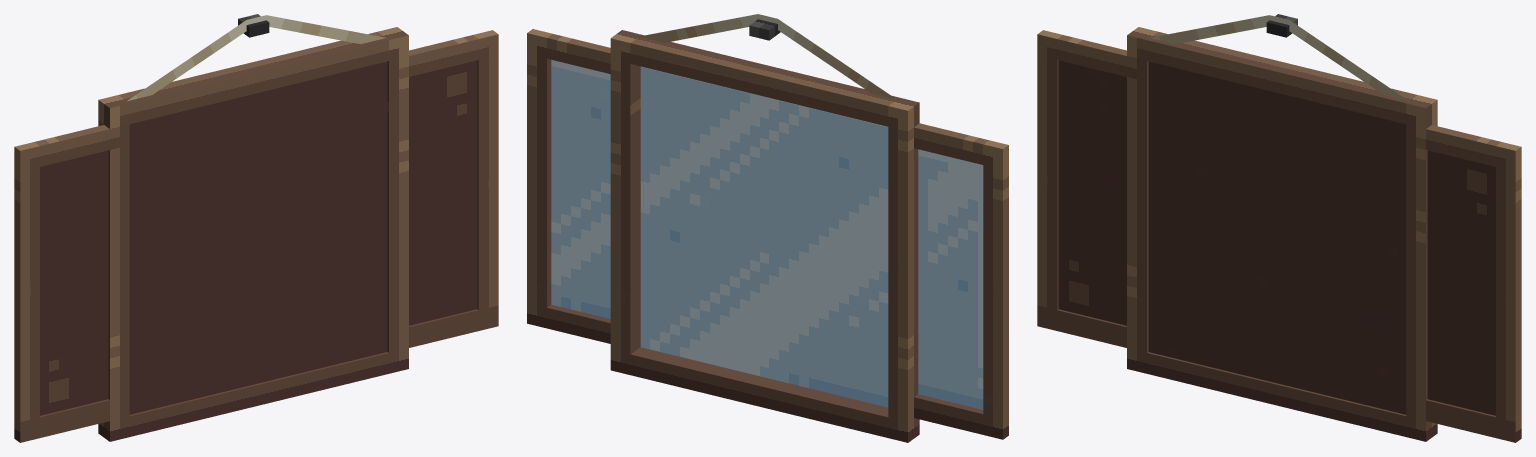
File: large-wall-mirror.gltf
The picture shows the model from 3 angles, left to right: view 1: azimuth 30°, elevation 25°; view 2: azimuth 150°, elevation 25°; view 3: azimuth 330°, elevation 25°; orthographic projection.
Visible parts, largest first — view 1: cube (×13); view 2: cube (×14); view 3: cube (×13).
Part boxes in pixels (x1,y1,x2,y2): cube (×13): [14, 15, 498, 442]; cube (×14): [527, 14, 1008, 442]; cube (×13): [1037, 15, 1521, 442].
Bounding box in the file's own units: 3 × 2.31 × 0.125.
Materials: 1 (1 with a texture image).
